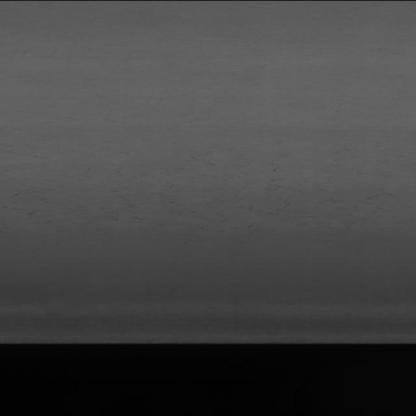silk_spot: (95, 145, 325, 233)
